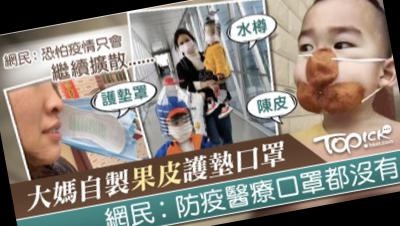with_mask: (285, 14, 388, 123), (162, 112, 196, 143), (177, 35, 197, 57), (203, 24, 223, 46)
without_mask: (6, 77, 74, 170)
